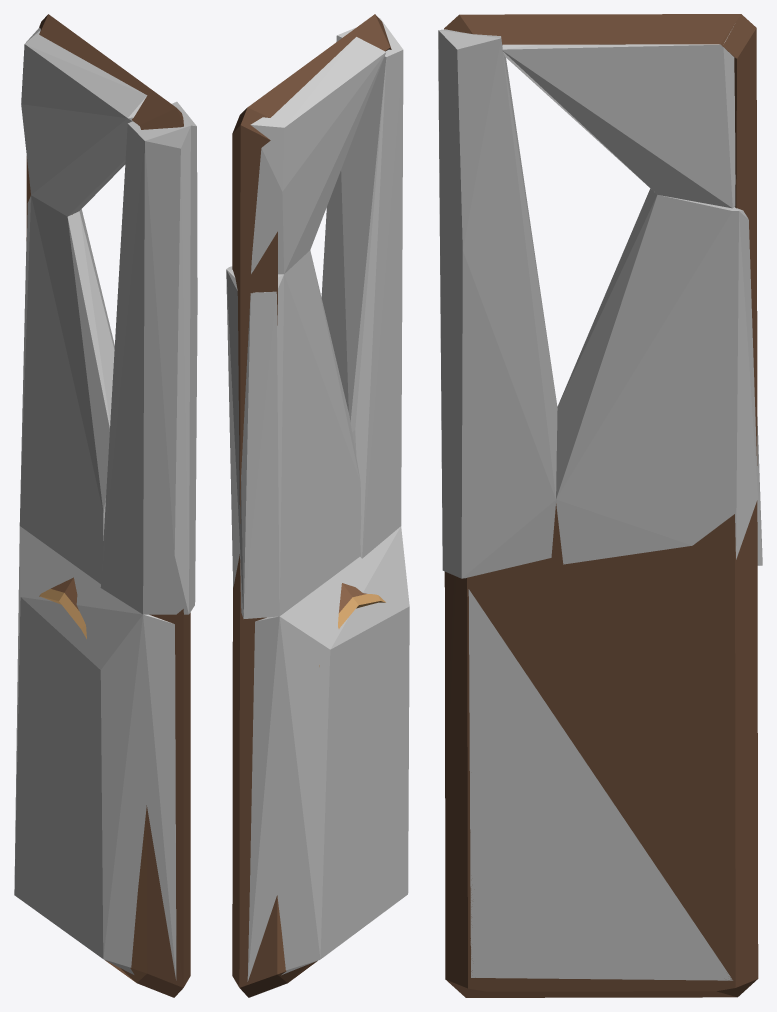
The model's file is SM_Prop_Cabinet_01_Door_l_03.fbx.
3 renders of one model, left to right at view 1: azimuth 30°, elevation 25°; view 2: azimuth 150°, elevation 25°; view 3: azimuth 270°, elevation 25°, orthographic. The views are drawn at different scales.
Parts seen in each view (by area): view 1: SM_Prop_Cabinet_01_Door_l_03_ConvexHulls, SM_Prop_Cabinet_01_Door_l_03; view 2: SM_Prop_Cabinet_01_Door_l_03_ConvexHulls, SM_Prop_Cabinet_01_Door_l_03; view 3: SM_Prop_Cabinet_01_Door_l_03_ConvexHulls, SM_Prop_Cabinet_01_Door_l_03.
Part boxes in pixels (x1,y1,x2,y2): SM_Prop_Cabinet_01_Door_l_03_ConvexHulls: (14, 27, 197, 980); SM_Prop_Cabinet_01_Door_l_03: (26, 14, 190, 997); SM_Prop_Cabinet_01_Door_l_03_ConvexHulls: (226, 18, 409, 981); SM_Prop_Cabinet_01_Door_l_03: (232, 14, 391, 997); SM_Prop_Cabinet_01_Door_l_03_ConvexHulls: (438, 26, 762, 980); SM_Prop_Cabinet_01_Door_l_03: (444, 14, 758, 997).
Bounding box in the file's own units: 12.6 × 41.16 × 138.
Materials: 2 (1 with a texture image).
